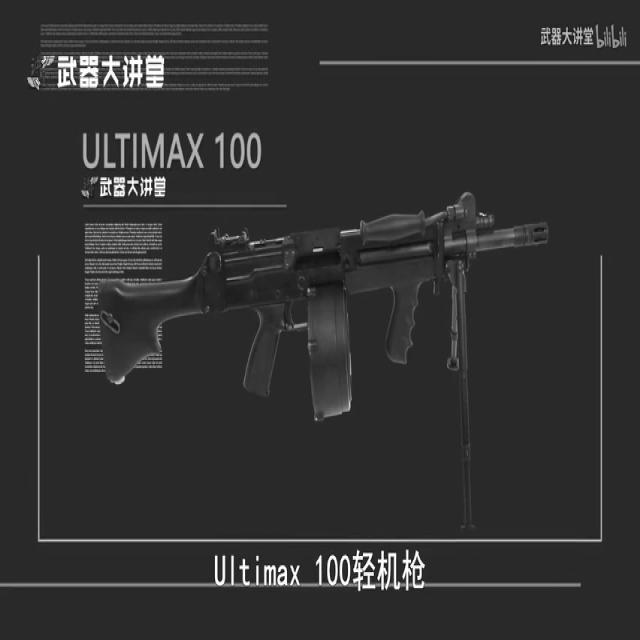Sub-machine-gun: (43, 163, 586, 470)
